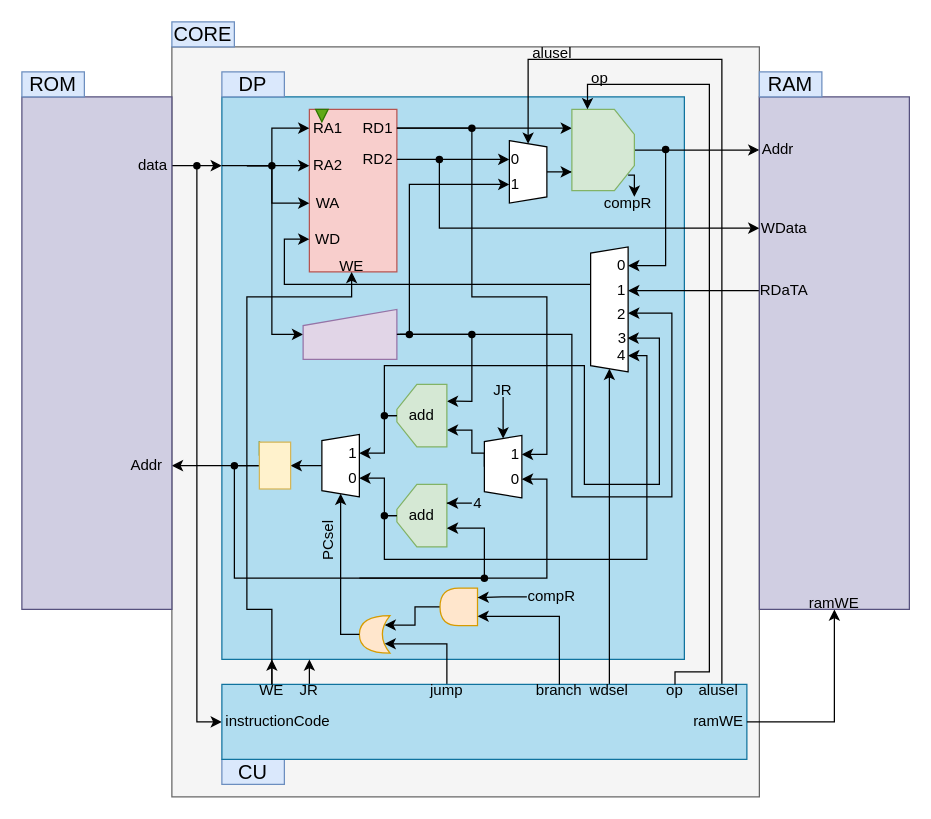
Some shapes in this 931 by 819 pixel diagram are drawn without their labels. Here are the shapes that lost their labels. From the top down, the box of each, then its label:
(571, 108, 634, 191): ALU
(302, 308, 397, 359): immEXT
(258, 441, 291, 489): PC
